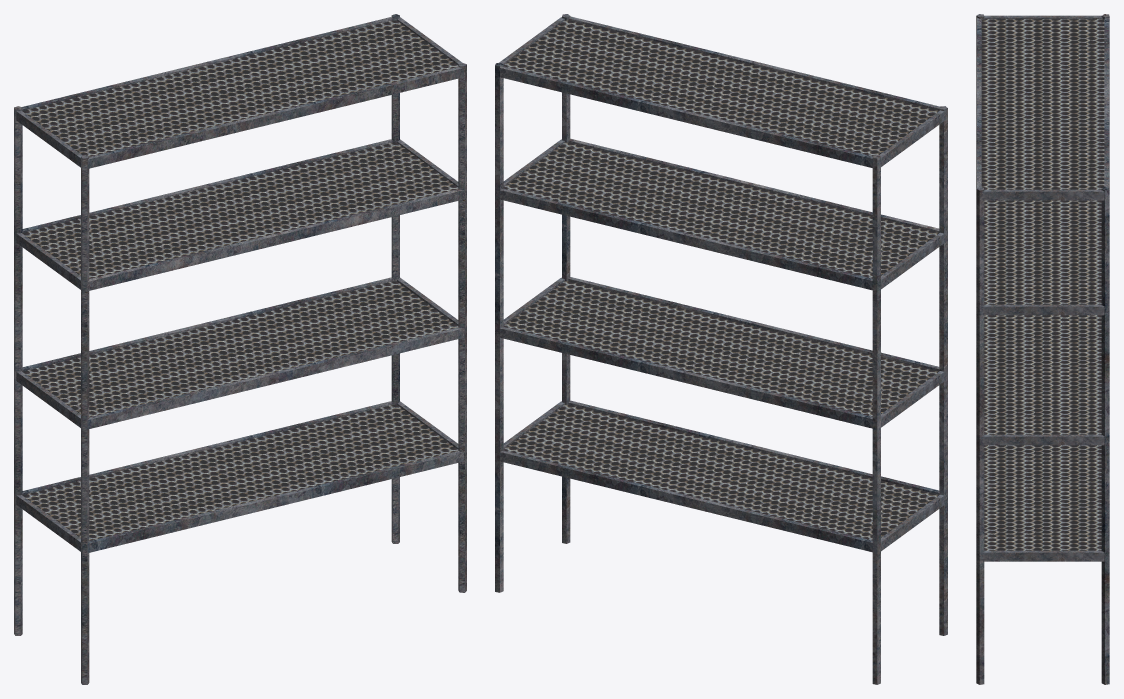
The model's file is furniture_storage_shelf01.dae.
The picture shows the model from 3 angles, left to right: view 1: azimuth 30°, elevation 25°; view 2: azimuth 150°, elevation 25°; view 3: azimuth 270°, elevation 25°; orthographic projection. The views are drawn at different scales.
Visible parts, largest first — view 1: polySurface129, polySurface126, polySurface125; view 2: polySurface129, polySurface126, polySurface125; view 3: polySurface129, polySurface125, polySurface126.
Part boxes in pixels (x1,y1,x2,y2): polySurface129: (22,20,458,540); polySurface126: (16,17,463,552); polySurface125: (14,14,466,684); polySurface129: (503,20,939,540); polySurface126: (499,16,945,552); polySurface125: (495,14,947,684); polySurface129: (981,19,1104,550); polySurface125: (976,14,1109,684); polySurface126: (977,15,1109,561).
Size of what is drawn, in the model's own units: 1.72 by 2.25 by 0.5485.
